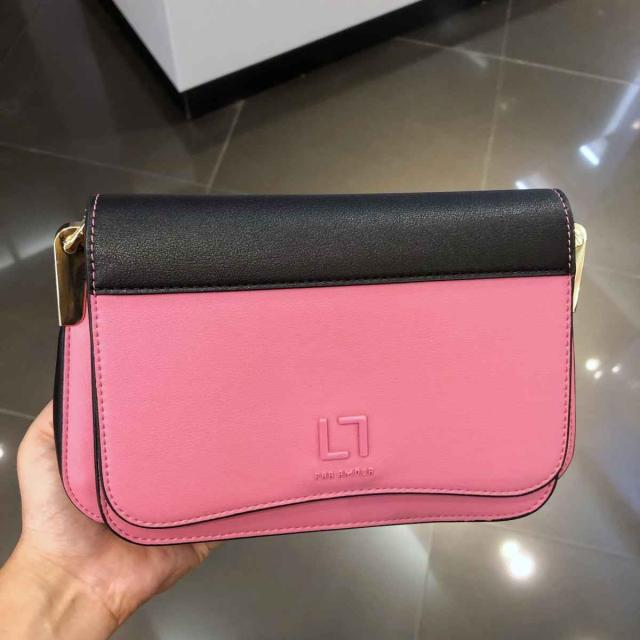Handbag: (45, 190, 580, 548)
